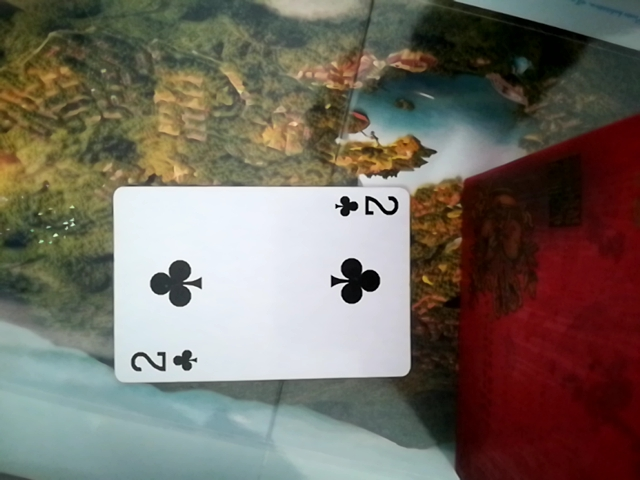mh 2: (102, 185, 415, 389)
